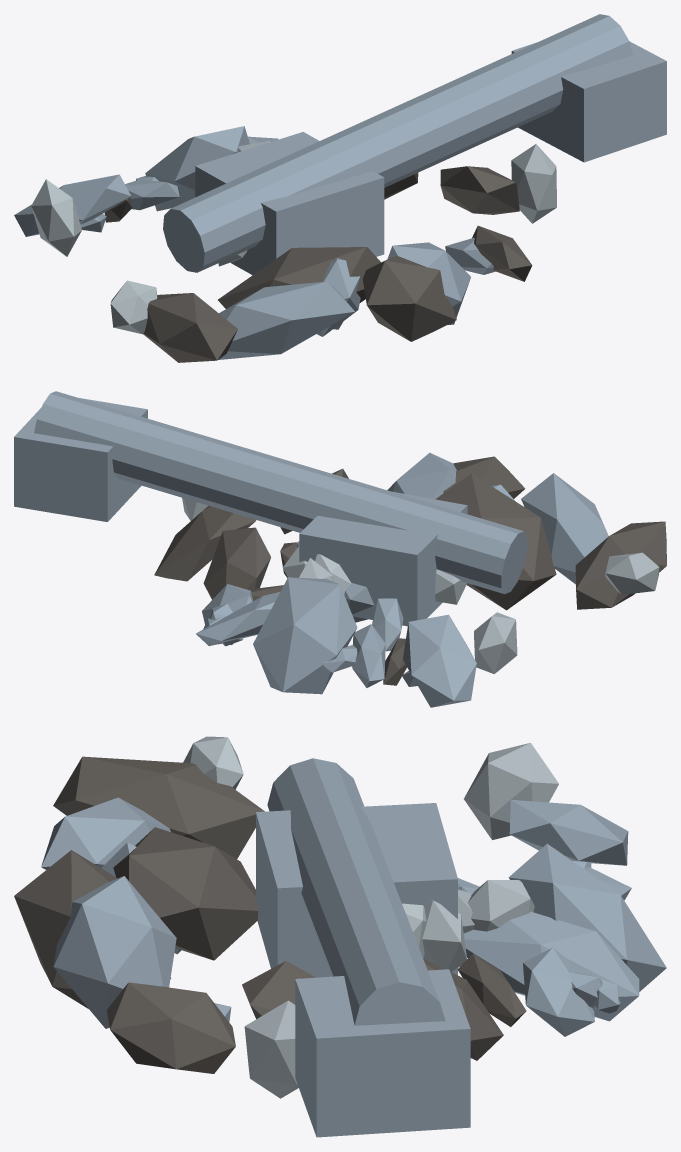
The model's file is fallen_pillar.glb.
The picture shows the model from 3 angles, top to bottom: view 1: azimuth 30°, elevation 25°; view 2: azimuth 150°, elevation 25°; view 3: azimuth 270°, elevation 25°; orthographic projection. The views are drawn at different scales.
Visible parts, largest first — view 1: fallen thin column, carved column foot, broken stone capital, column collapse_stone_25, column collapse_stone_12, column collapse_stone_09, column collapse_stone_18, column collapse_stone_07, column collapse_stone_03, broken stone chip 0, column collapse_stone_13, broken stone chip 1 (+6 smaller); view 2: fallen thin column, carved column foot, broken stone capital, column collapse_stone_07, column collapse_stone_13, column collapse_stone_18, column collapse_stone_25, column collapse_stone_09, column collapse_stone_03, column collapse_stone_24, broken stone chip 1, column collapse_stone_11 (+11 smaller); view 3: fallen thin column, broken stone capital, carved column foot, column collapse_stone_18, column collapse_stone_17, column collapse_stone_09, column collapse_stone_06, column collapse_stone_07, column collapse_stone_11, column collapse_stone_12, column collapse_stone_13, broken stone chip 1 (+12 smaller).
Boxes of the visible parts, box(x1,y1,x2,y2) form: fallen thin column: box(163, 14, 633, 272); carved column foot: box(195, 132, 384, 275); broken stone capital: box(511, 41, 666, 162); column collapse_stone_25: box(218, 281, 354, 359); column collapse_stone_12: box(362, 255, 456, 341); column collapse_stone_09: box(143, 293, 237, 362); column collapse_stone_18: box(218, 247, 380, 308); column collapse_stone_07: box(145, 126, 249, 211); column collapse_stone_03: box(440, 166, 519, 214); broken stone chip 0: box(511, 144, 556, 223); column collapse_stone_13: box(14, 174, 130, 236); broken stone chip 1: box(31, 179, 81, 256); fallen thin column: box(34, 391, 527, 594); carved column foot: box(299, 491, 467, 626); broken stone capital: box(14, 398, 147, 521); column collapse_stone_07: box(253, 577, 357, 694); column collapse_stone_13: box(403, 614, 476, 707); column collapse_stone_18: box(435, 473, 556, 610); column collapse_stone_25: box(521, 473, 608, 584); column collapse_stone_09: box(575, 521, 666, 609); column collapse_stone_03: box(154, 505, 256, 581); column collapse_stone_24: box(203, 527, 270, 599); broken stone chip 1: box(474, 612, 517, 673); column collapse_stone_11: box(196, 592, 279, 646); fallen thin column: box(267, 758, 445, 1025); broken stone capital: box(295, 969, 470, 1137); carved column foot: box(256, 803, 457, 977); column collapse_stone_18: box(113, 827, 258, 960); column collapse_stone_17: box(53, 876, 176, 1028); column collapse_stone_09: box(53, 756, 264, 858); column collapse_stone_06: box(106, 982, 235, 1073); column collapse_stone_07: box(508, 843, 666, 991); column collapse_stone_11: box(463, 911, 639, 1021); column collapse_stone_12: box(14, 850, 171, 1008); column collapse_stone_13: box(509, 800, 628, 865); broken stone chip 1: box(464, 742, 558, 839).
Size of the model in its own units: 3.57 by 0.9698 by 2.52.
